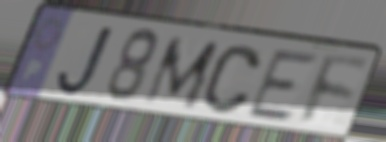8: (103, 27, 161, 107)
C: (198, 42, 265, 117)
E: (243, 49, 323, 125)
F: (297, 51, 372, 129)
J: (53, 23, 118, 98)
M: (139, 36, 224, 112)
